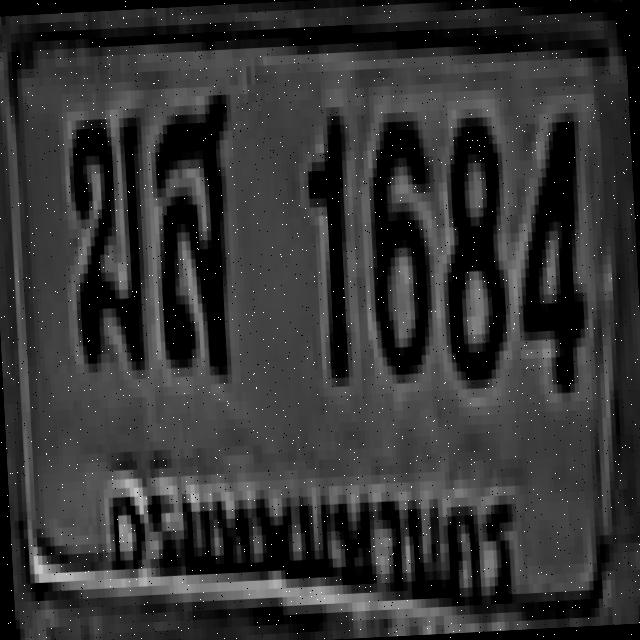1: (301, 107, 354, 379)
15KhorRaKhang: (65, 108, 152, 364)
4: (508, 104, 588, 386)
49SorSuea: (148, 86, 236, 369)
6: (361, 112, 435, 376)
8: (435, 108, 505, 381)
Bangkok: (89, 435, 525, 640)
